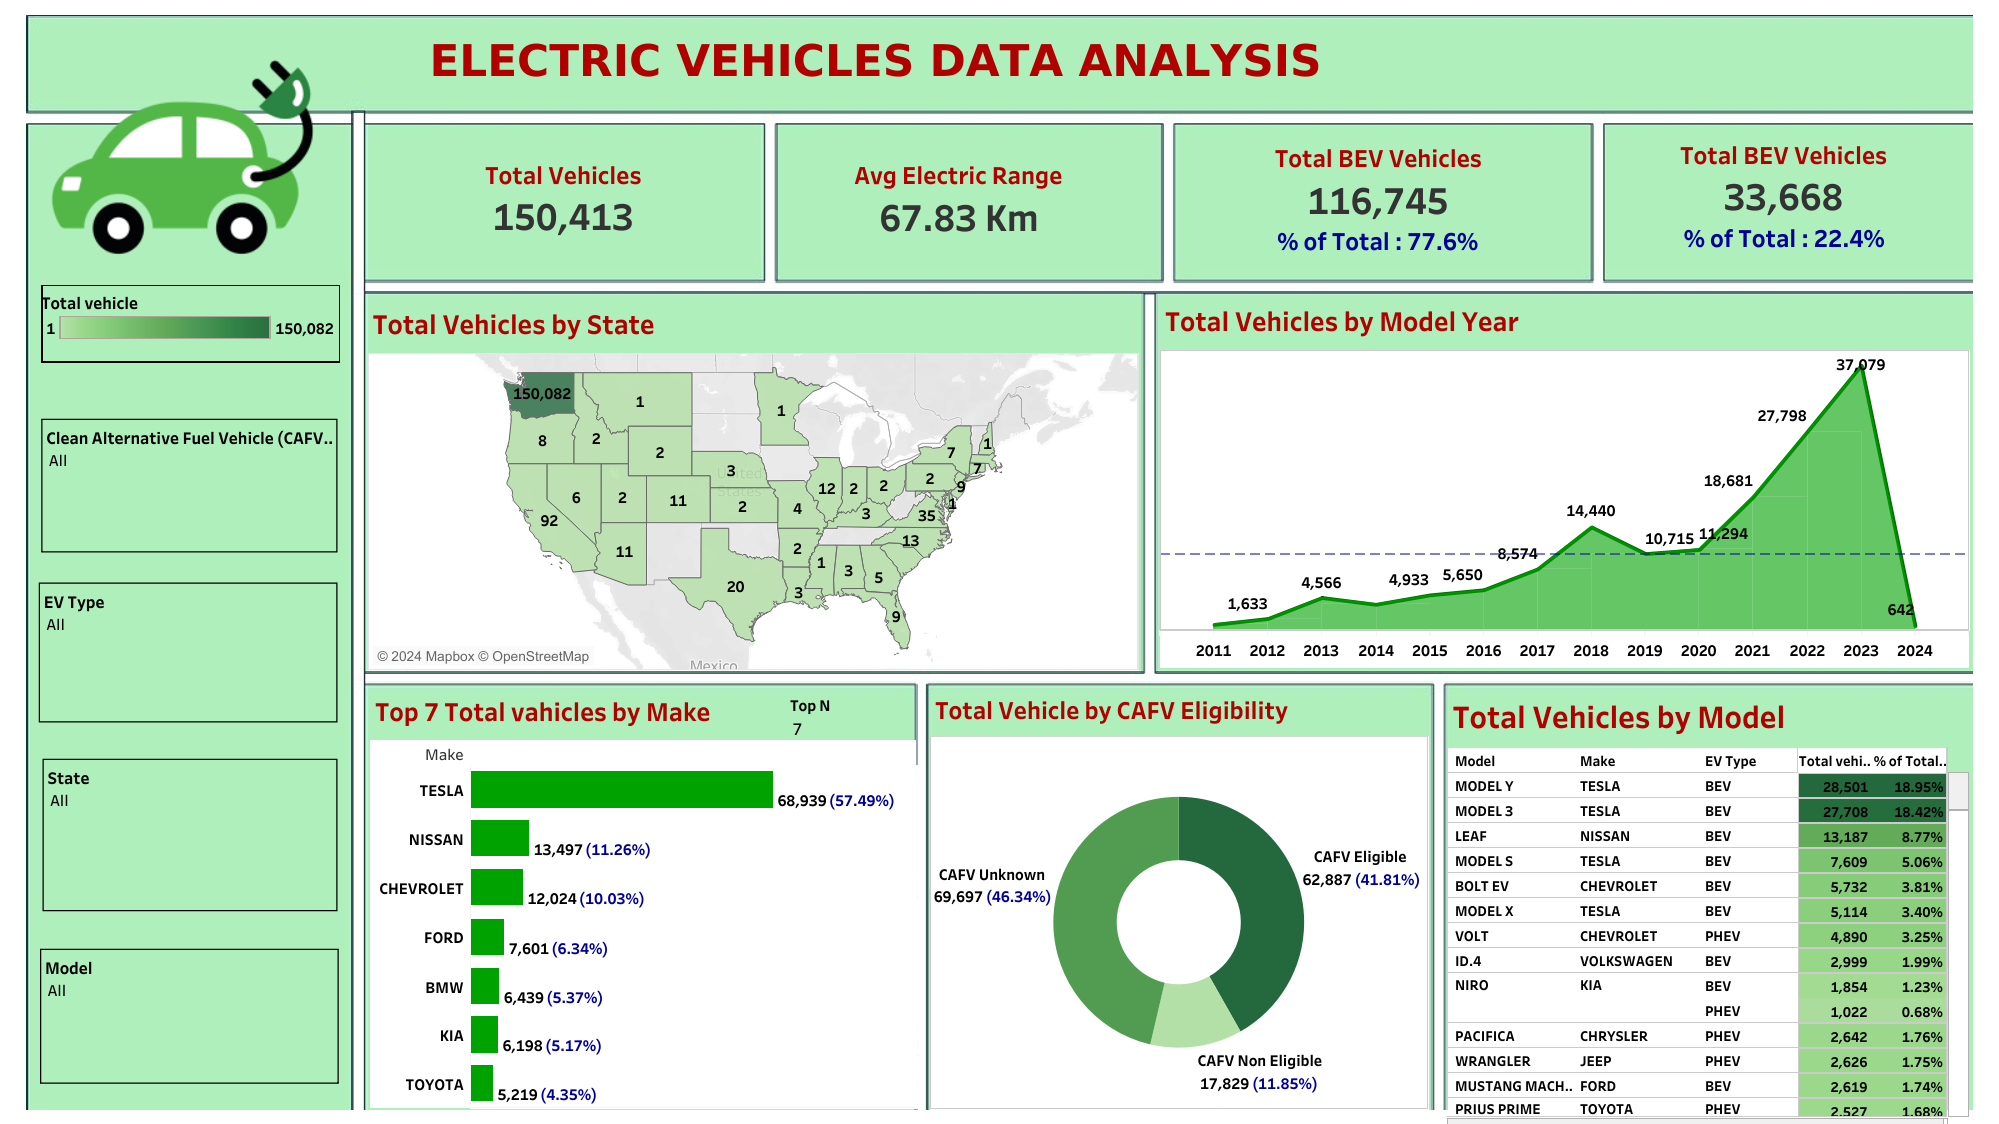

This screenshot's page, from the dashboard's own definition file:
{"tool":"tableau","page":{"name":"Dashboard 1","canvas":[1600,900],"ordinal":0},"visuals":[{"type":"image","param":"Image/12.jpg","box":[8,8,1584,884]},{"type":"text","box":[341,12,870,74]},{"type":"image","param":"Image/Electric-Car-Vector-PNG-HD-Image.png","box":[26,20,245,196]},{"type":"worksheet","title":"kpi (4)","mark":"Automatic","box":[1284,99,298,134]},{"type":"worksheet","title":"kpi ","mark":"Automatic","box":[296,100,313,121]},{"type":"worksheet","title":"kpi (3)","mark":"Automatic","box":[941,101,338,125]},{"type":"worksheet","title":"kpi (2)","mark":"Automatic","box":[626,102,290,117]},{"type":"legend","title":"Sheet 6","param":"[federated.17pqshr1q1w6951cmo2fy05rawrm].[usr:Calculation_809240580066062336:qk]","box":[33,228,239,88]},{"type":"worksheet","title":"Sheet 5","mark":"Automatic","rows":["Calculation_809240580066062336","Calculation_809240580066062336"],"cols":["Model Year"],"box":[928,236,648,299]},{"type":"worksheet","title":"Sheet 6","mark":"Multipolygon","box":[294,238,617,298]},{"type":"filter","title":"Sheet 6","param":"[federated.17pqshr1q1w6951cmo2fy05rawrm].[none:Clean Alternative Fuel Vehicle (C","box":[33,335,237,107]},{"type":"filter","title":"Sheet 6","param":"[federated.17pqshr1q1w6951cmo2fy05rawrm].[none:Electric Vehicle Type:nk]","box":[31,466,239,112]},{"type":"worksheet","title":"Sheet 8","mark":"Pie","rows":["Calculation_809240580079165447","Calculation_809240580079165447"],"box":[744,548,399,340]},{"type":"worksheet","title":"Sheet 7","mark":"Automatic","rows":["Make"],"cols":["Calculation_809240580066062336"],"box":[296,549,437,337]},{"type":"parameter","param":"[Parameters].[Parameter 1]","box":[632,554,95,47]},{"type":"filter","title":"Sheet 6","param":"[federated.17pqshr1q1w6951cmo2fy05rawrm].[none:State:nk]","box":[34,607,236,122]},{"type":"filter","title":"Sheet 6","param":"[federated.17pqshr1q1w6951cmo2fy05rawrm].[none:Model:nk]","box":[32,759,239,108]}]}

Visuals, with their boxes in screenshot pixels (x1, y1, x2, y2), scaled from the page's 1600x900 canvas onto the 1999x1124 screenshot:
image: box(10, 10, 1989, 1114)
text: box(426, 15, 1513, 107)
image: box(32, 25, 339, 270)
"kpi (4)" worksheet: box(1604, 124, 1977, 291)
"kpi " worksheet: box(370, 125, 761, 276)
"kpi (3)" worksheet: box(1176, 126, 1598, 282)
"kpi (2)" worksheet: box(782, 127, 1144, 274)
"Sheet 6" legend: box(41, 285, 340, 395)
"Sheet 5" worksheet: box(1159, 295, 1969, 668)
"Sheet 6" worksheet (Multipolygon marks): box(367, 297, 1138, 669)
"Sheet 6" filter: box(41, 418, 337, 552)
"Sheet 6" filter: box(39, 582, 337, 722)
"Sheet 8" worksheet (Pie marks): box(930, 684, 1428, 1109)
"Sheet 7" worksheet: box(370, 686, 916, 1107)
parameter: box(790, 692, 908, 751)
"Sheet 6" filter: box(42, 758, 337, 910)
"Sheet 6" filter: box(40, 948, 339, 1083)
